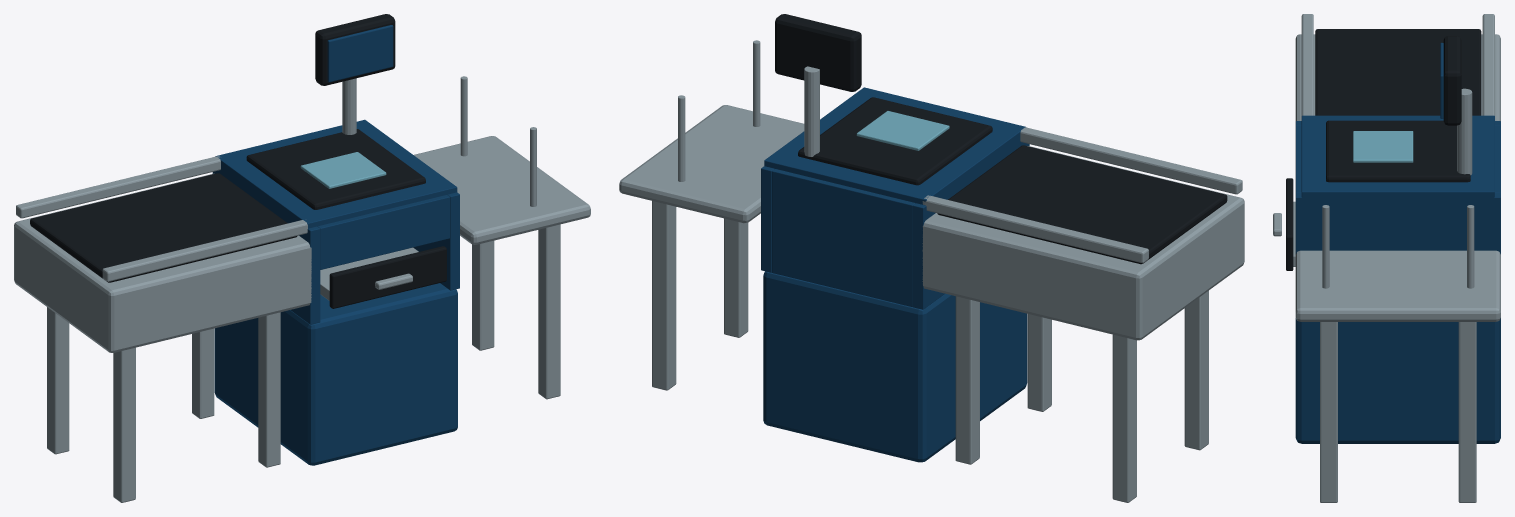
File: edited.glb
The picture shows the model from 3 angles, left to right: view 1: azimuth 30°, elevation 25°; view 2: azimuth 150°, elevation 25°; view 3: azimuth 270°, elevation 25°; orthographic projection. The views are drawn at different scales.
Visible parts, largest first — view 1: BODY_Lower, CONVEYOR_Base, CONVEYOR_Belt, BAGGING_Surface, BODY_Top, SCANNER_Plate, BODY_Fascia, DRAWER_Front, LEG.004, LEG.002, LEG, LEG.001 (+12 smaller); view 2: BODY_Lower, CONVEYOR_Base, CONVEYOR_Belt, BODY_Back, BAGGING_Surface, BODY_Top, SCANNER_Plate, POS_Housing, LEG.005, LEG.003, LEG.001, LEG (+10 smaller); view 3: BODY_Lower, BAGGING_Surface, CONVEYOR_Belt, BODY_Side, BODY_Top, SCANNER_Plate, LEG.005, LEG.004, SCANNER_Window, POS_Housing, CONVEYOR_Base, CONVEYOR_Rail (+8 smaller).
Part boxes in pixels (x1,y1,x2,y2): BODY_Lower: (214, 283, 457, 465); CONVEYOR_Base: (14, 173, 311, 352); CONVEYOR_Belt: (30, 173, 297, 282); BAGGING_Surface: (414, 136, 590, 244); BODY_Top: (215, 119, 457, 228); SCANNER_Plate: (246, 129, 425, 209); BODY_Fascia: (317, 195, 449, 269); DRAWER_Front: (329, 246, 446, 308); LEG.004: (538, 224, 560, 399); LEG.002: (258, 312, 280, 467); LEG: (113, 347, 135, 502); LEG.001: (47, 307, 69, 454); BODY_Lower: (763, 271, 1027, 462); CONVEYOR_Base: (922, 146, 1244, 340); CONVEYOR_Belt: (937, 145, 1227, 264); BODY_Back: (772, 169, 915, 306); BAGGING_Surface: (619, 105, 804, 223); BODY_Top: (764, 87, 1025, 204); SCANNER_Plate: (798, 97, 992, 185); POS_Housing: (775, 14, 861, 91); LEG.005: (652, 201, 676, 390); LEG.003: (955, 296, 979, 464); LEG.001: (1112, 334, 1136, 502); LEG: (1184, 290, 1208, 450); BODY_Lower: (1295, 318, 1500, 443); BAGGING_Surface: (1295, 250, 1500, 321); CONVEYOR_Belt: (1315, 29, 1481, 115); BODY_Side: (1295, 192, 1500, 254); BODY_Top: (1301, 115, 1494, 202); SCANNER_Plate: (1326, 120, 1470, 182); LEG.005: (1458, 322, 1476, 502); LEG.004: (1320, 322, 1337, 502); SCANNER_Window: (1353, 131, 1413, 162); POS_Housing: (1443, 36, 1461, 125); CONVEYOR_Base: (1295, 34, 1500, 120); CONVEYOR_Rail: (1482, 14, 1494, 115).
Bounding box in the file's own units: 1.93 × 1.38 × 0.755.
